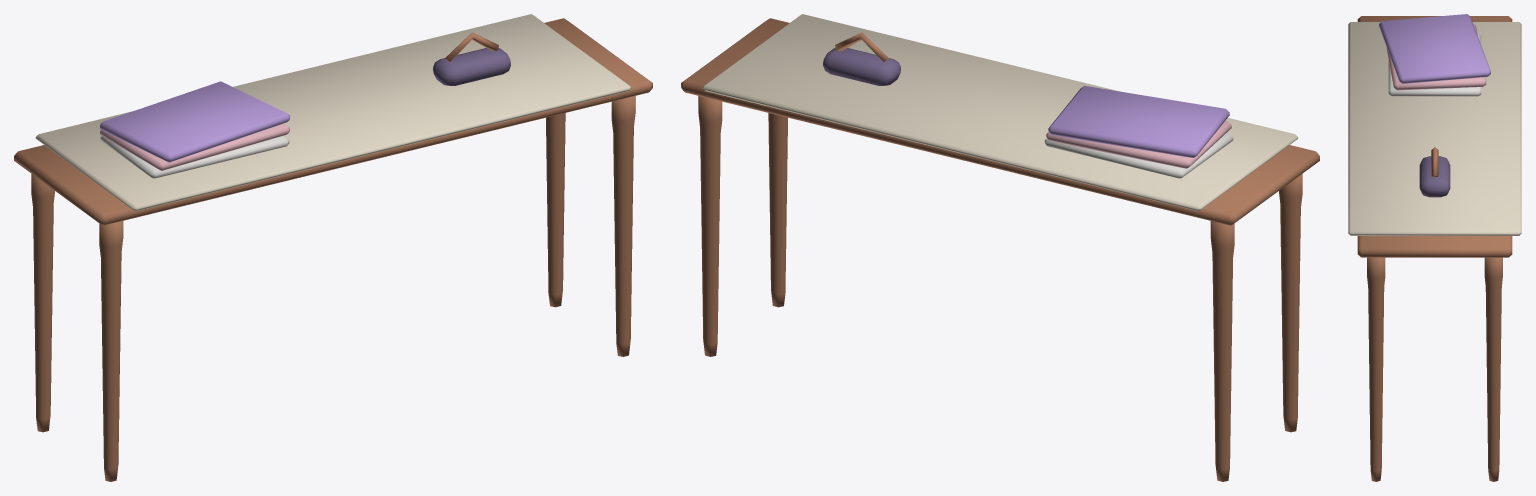
File: ironing_table.glb
3 renders of one model, left to right at view 1: azimuth 30°, elevation 25°; view 2: azimuth 150°, elevation 25°; view 3: azimuth 270°, elevation 25°, orthographic. The views are drawn at different scales.
Visible parts, largest first — view 1: ironing_table; view 2: ironing_table; view 3: ironing_table.
Part boxes in pixels (x1,y1,x2,y2): ironing_table: [14, 14, 652, 481]; ironing_table: [681, 14, 1319, 481]; ironing_table: [1348, 14, 1521, 481].
Size of what is drawn, in the model's own units: 1.6 by 0.9 by 0.5.
